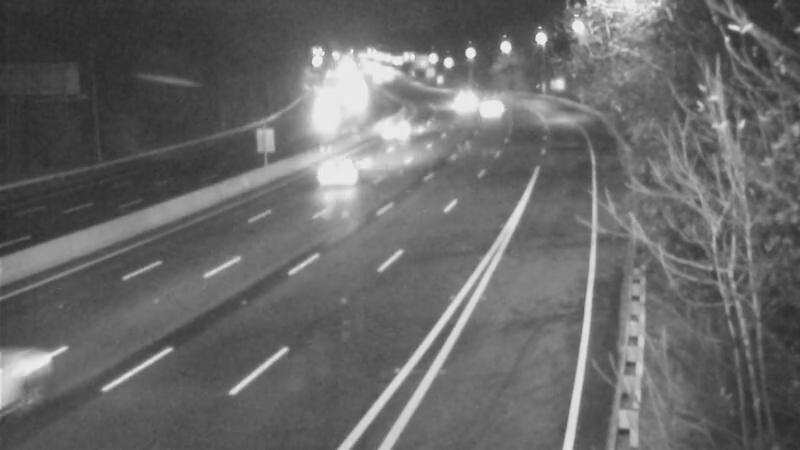vehicle: (303, 132, 383, 212), (440, 73, 490, 123), (461, 83, 511, 133), (372, 105, 422, 155)
